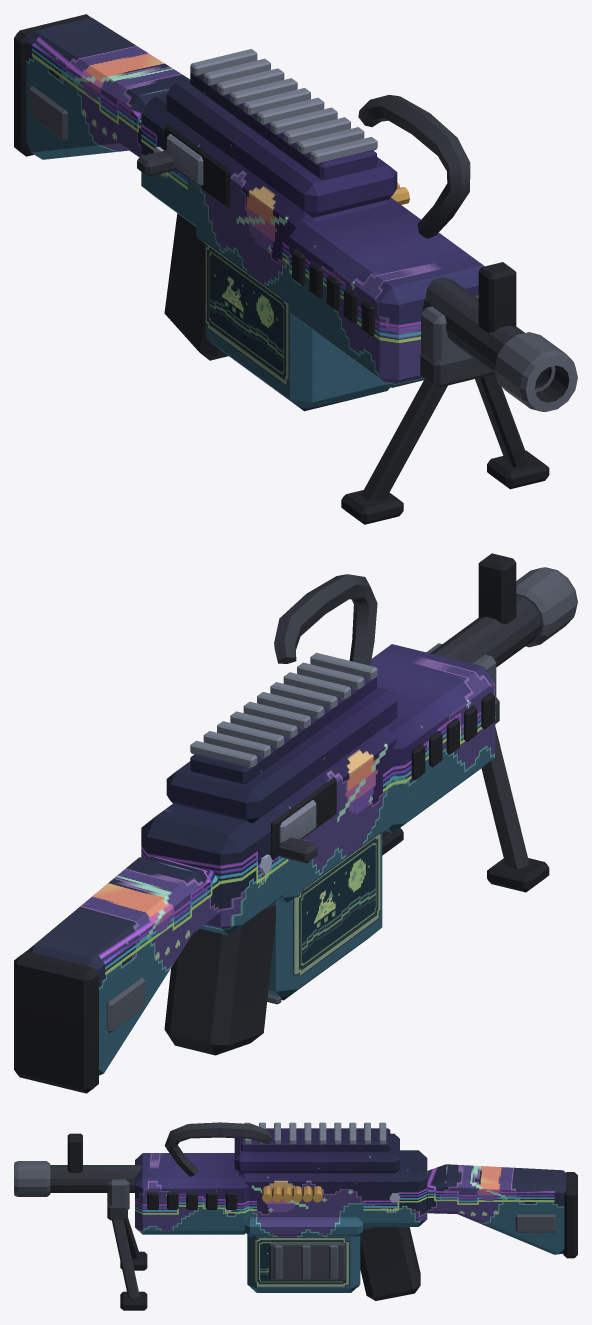
File: M249_MoonRover.glb
The picture shows the model from 3 angles, top to bottom: view 1: azimuth 30°, elevation 25°; view 2: azimuth 150°, elevation 25°; view 3: azimuth 270°, elevation 25°; orthographic projection. The views are drawn at different scales.
Visible parts, largest first — view 1: Main, Stock, Magazine, Bipod, Bolt; view 2: Main, Stock, Magazine, Bipod, Bolt; view 3: Main, Stock, Magazine, Bipod.
Part boxes in pixels (box(x1,y1,x2,y2)): Main: box(141, 49, 577, 411); Stock: box(14, 14, 189, 159); Magazine: box(196, 226, 390, 411); Bipod: box(341, 353, 549, 524); Bolt: box(137, 134, 203, 186); Main: box(141, 553, 577, 1055); Stock: box(14, 857, 220, 1093); Magazine: box(268, 815, 391, 1000); Bipod: box(382, 697, 549, 892); Bolt: box(278, 800, 317, 863); Main: box(14, 1122, 427, 1300); Stock: box(427, 1164, 577, 1258); Magazine: box(244, 1217, 362, 1292); Bipod: box(107, 1193, 147, 1310).
Bounding box in the file's own units: 0.884 × 1.49 × 4.06.
Materials: 2 (1 with a texture image).
